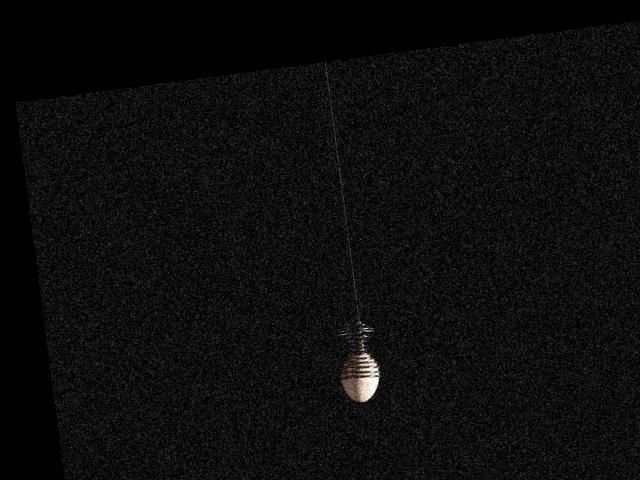egg: (338, 351, 383, 404)
